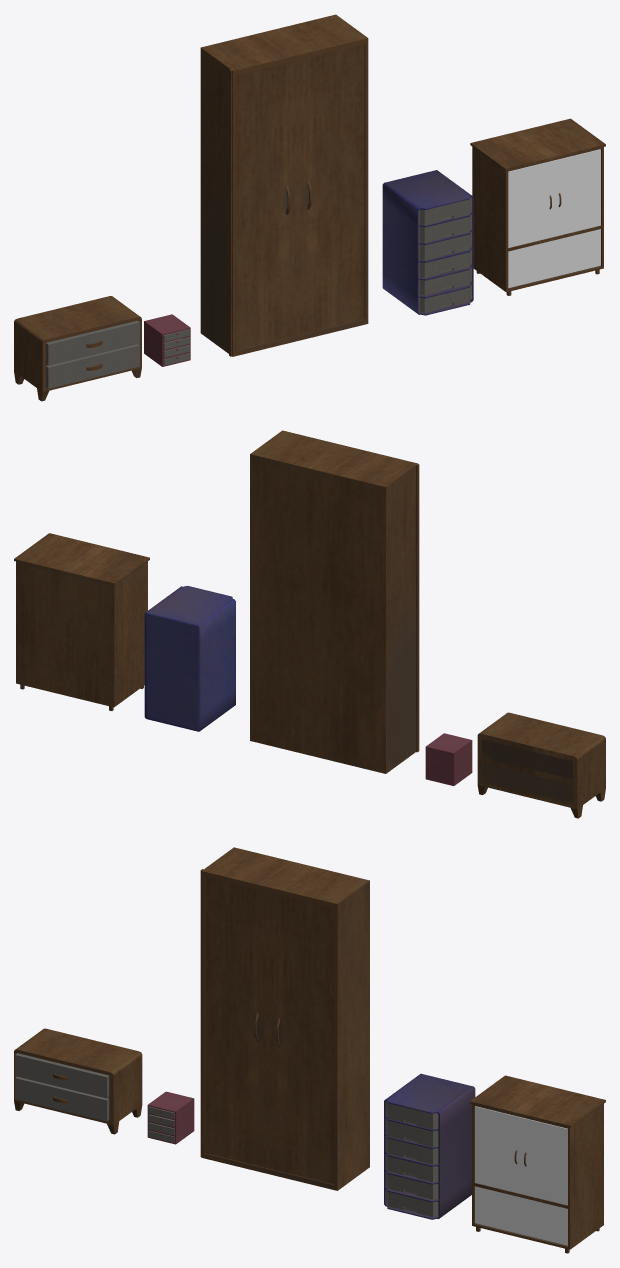
Rendered from BakeDrawer&Cupboard.fbx.
3 views of the same model, one above another, from view 1: azimuth 30°, elevation 25°; view 2: azimuth 150°, elevation 25°; view 3: azimuth 330°, elevation 25° (orthographic).
Parts seen in each view (by area): view 1: Cupboard_R_Door.013, Cupboard_R_Door.006, Cupboard_R_Door, Cupboard_R_Door.003, Cupboard_R_Door.004, Cupboard_R_Door.007, Cube.001, Cube.002, Cupboard_R_Door.001, Cupboard_R_Door.009, Cube, Cube.003 (+7 smaller); view 2: Cupboard_R_Door, Cupboard_R_Door.003, Cupboard_R_Door.004, Cupboard_R_Door.007, Cupboard_R_Door.008, Cupboard_R_Door.006; view 3: Cupboard_R_Door.013, Cupboard_R_Door.006, Cupboard_R_Door, Cupboard_R_Door.003, Cupboard_R_Door.004, Cupboard_R_Door.007, Cube.001, Cube.002, Cupboard_R_Door.001, Cupboard_R_Door.009, Cube.003, Cube (+7 smaller).
Part boxes in pixels (x1,y1,x2,y2): Cupboard_R_Door.013: (298, 44, 364, 335); Cupboard_R_Door.006: (229, 60, 297, 356); Cupboard_R_Door: (200, 14, 368, 356); Cupboard_R_Door.003: (470, 118, 605, 295); Cupboard_R_Door.004: (382, 170, 473, 315); Cupboard_R_Door.007: (14, 296, 141, 401); Cube.001: (508, 160, 554, 247); Cube.002: (554, 149, 600, 236); Cupboard_R_Door.001: (46, 320, 139, 365); Cupboard_R_Door.009: (46, 344, 139, 388); Cube: (554, 229, 600, 276); Cube.003: (508, 240, 554, 287); Cupboard_R_Door: (250, 430, 417, 773); Cupboard_R_Door.003: (14, 533, 149, 710); Cupboard_R_Door.004: (144, 585, 235, 731); Cupboard_R_Door.007: (477, 712, 605, 818); Cupboard_R_Door.008: (425, 733, 472, 785); Cupboard_R_Door.006: (416, 464, 419, 752); Cupboard_R_Door.013: (268, 892, 335, 1184); Cupboard_R_Door.006: (200, 869, 268, 1168); Cupboard_R_Door: (201, 847, 369, 1190); Cupboard_R_Door.003: (470, 1075, 605, 1253); Cupboard_R_Door.004: (384, 1073, 475, 1219); Cupboard_R_Door.007: (14, 1028, 142, 1134); Cube.001: (475, 1106, 521, 1193); Cube.002: (521, 1117, 567, 1205); Cupboard_R_Door.001: (15, 1053, 109, 1098); Cupboard_R_Door.009: (15, 1076, 109, 1121); Cube.003: (475, 1186, 521, 1234); Cube: (521, 1197, 567, 1245).
Bounding box in the file's own units: 477 × 238 × 55.75.
